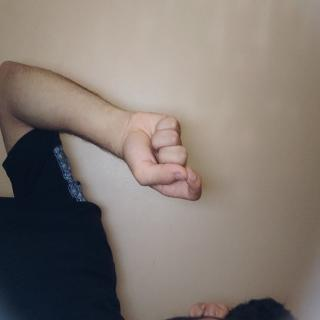FAA: (75, 153, 153, 276)
